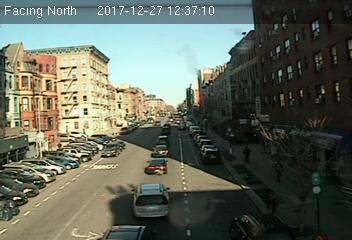car: (229, 212, 295, 240), (130, 182, 174, 219), (147, 160, 170, 176), (199, 147, 221, 163), (102, 142, 119, 158), (151, 145, 169, 157)
